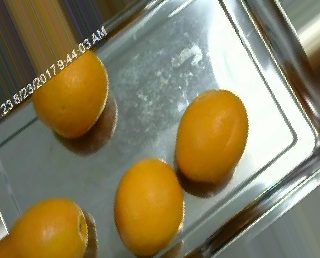Orange: (173, 89, 248, 183), (113, 157, 184, 254), (10, 197, 88, 256)
